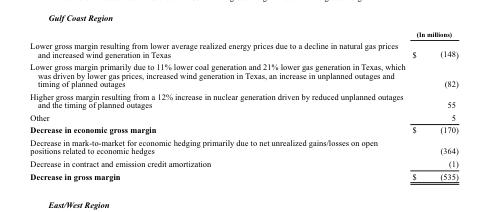table: (29, 28, 457, 181)
table column: (29, 28, 408, 181), (408, 28, 457, 181)
table column header: (29, 28, 457, 38)
table row: (29, 59, 457, 89), (29, 38, 457, 59), (29, 89, 457, 110), (29, 135, 457, 156), (29, 122, 457, 135), (29, 156, 457, 169), (29, 110, 457, 122), (29, 169, 457, 181), (29, 28, 457, 38)
